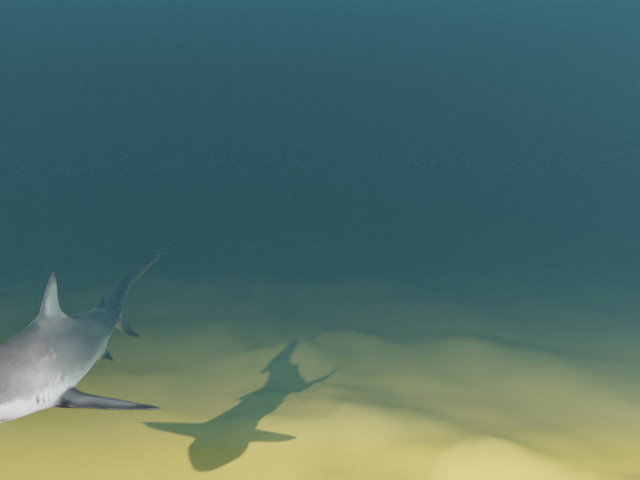Carribean Shark.001: (0, 243, 171, 435)
